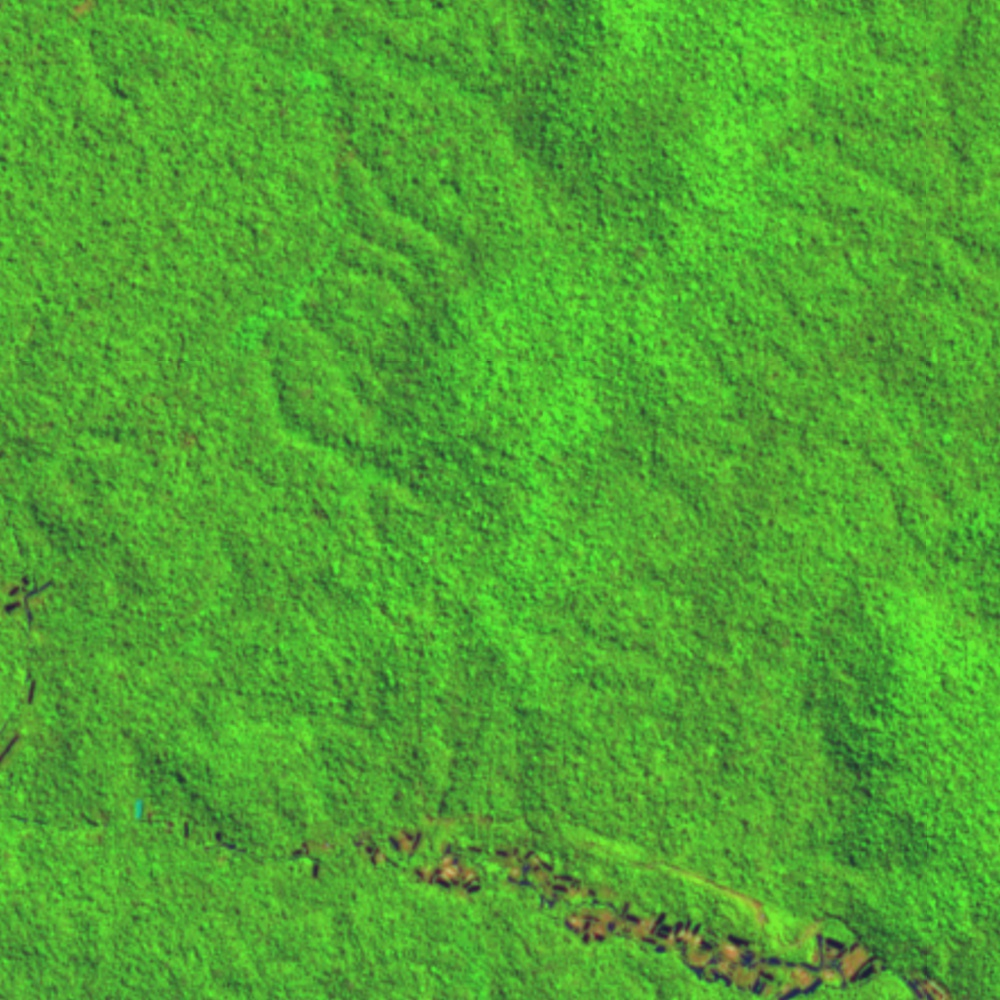illegal: (347, 802, 958, 1000), (78, 767, 337, 883), (1, 564, 62, 770)
